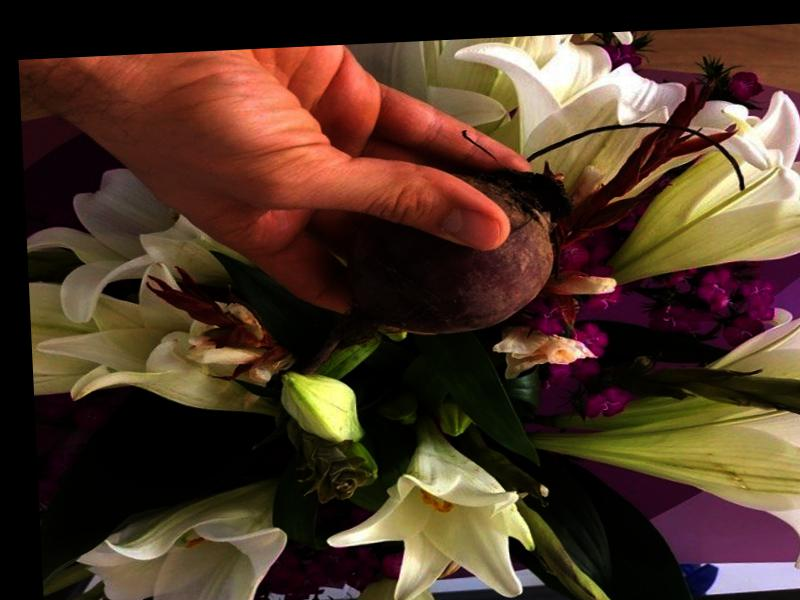Beet: (286, 167, 578, 377)
